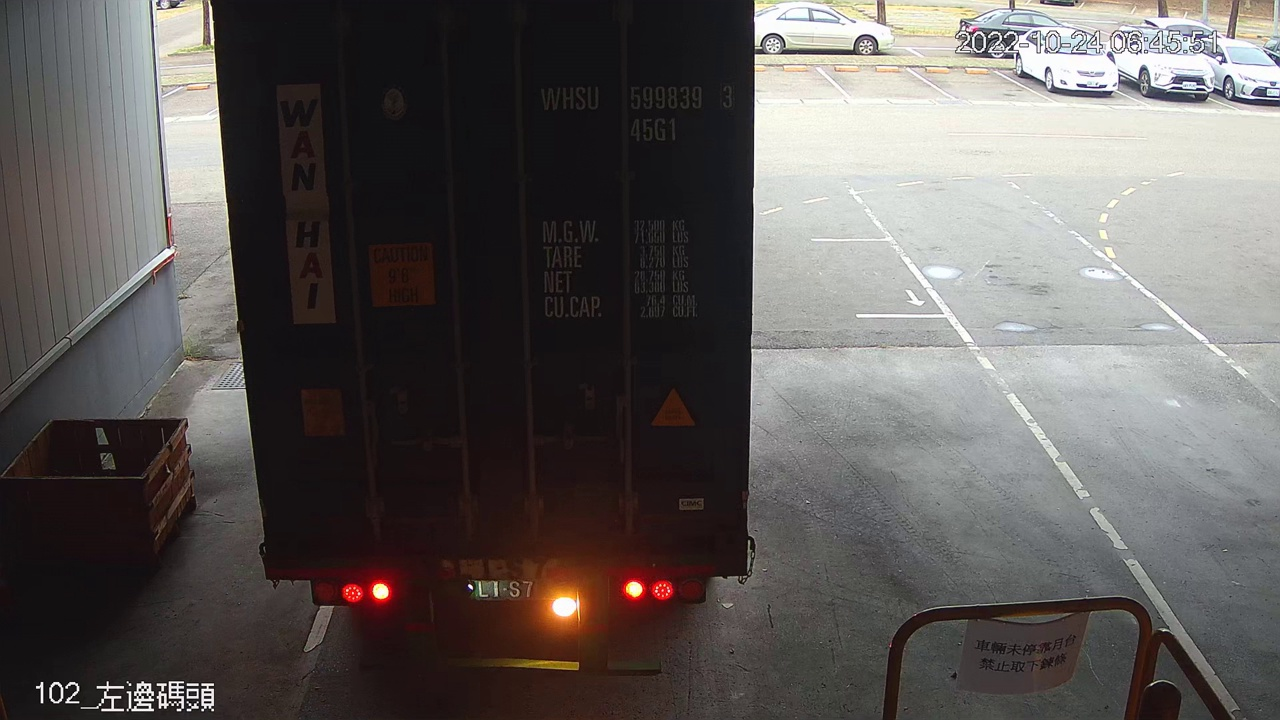container: (529, 73, 742, 152)
